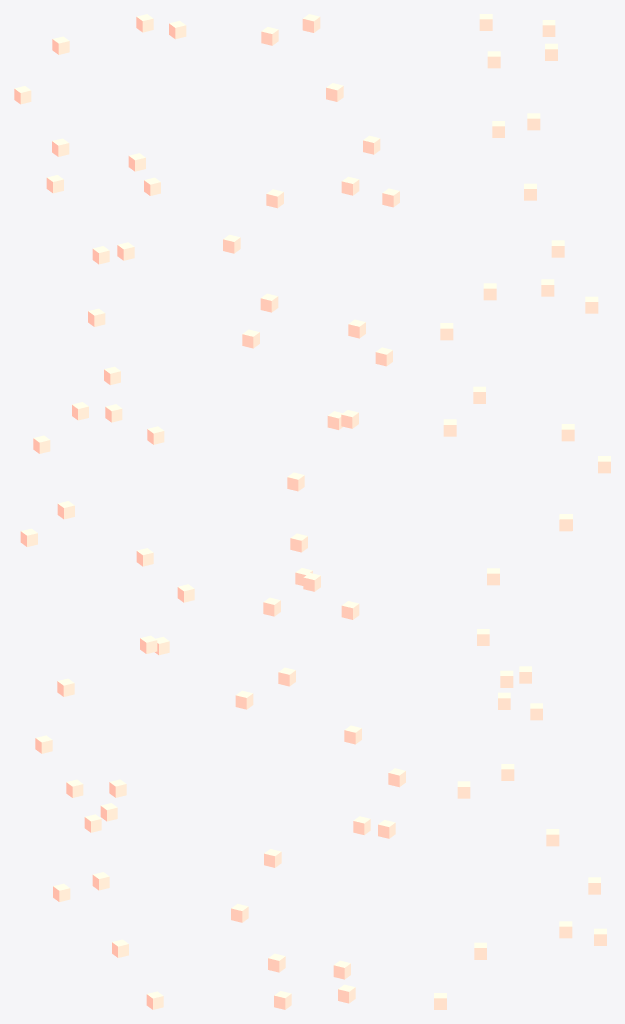
The model's file is embers.glb.
3 views of the same model, side by side, from view 1: azimuth 30°, elevation 25°; view 2: azimuth 150°, elevation 25°; view 3: azimuth 270°, elevation 25° (orthographic). The views are drawn at different scales.
Parts seen in each view (by area): view 1: Embers; view 2: Embers; view 3: Embers.
Boxes of the visible parts, x1,y1,x2,y2 form: Embers: [14, 14, 194, 1009]; Embers: [223, 14, 405, 1009]; Embers: [434, 14, 610, 1009].
Size of the model in its own units: 1.21 by 7.67 by 1.23.
